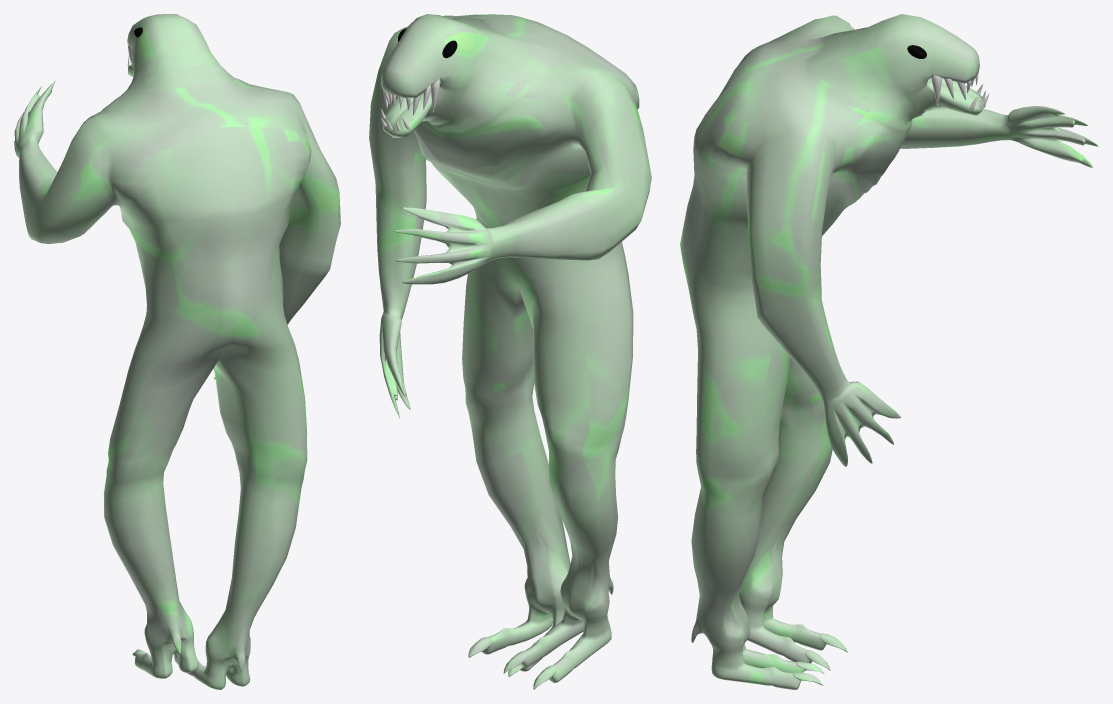
File: Berserkercorrer.0001.obj
3 renders of one model, left to right at view 1: azimuth 30°, elevation 25°; view 2: azimuth 150°, elevation 25°; view 3: azimuth 270°, elevation 25°, orthographic. The views are drawn at different scales.
Parts seen in each view (by area): view 1: polySurface27; view 2: polySurface27; view 3: polySurface27.
Boxes of the visible parts, left/top/right/bottom form: polySurface27: left=14, top=14, right=340, bottom=689; polySurface27: left=369, top=14, right=651, bottom=689; polySurface27: left=680, top=14, right=1098, bottom=689.
Bounding box in the file's own units: 10.75 × 23.72 × 13.4.
Materials: 1 (1 with a texture image).
